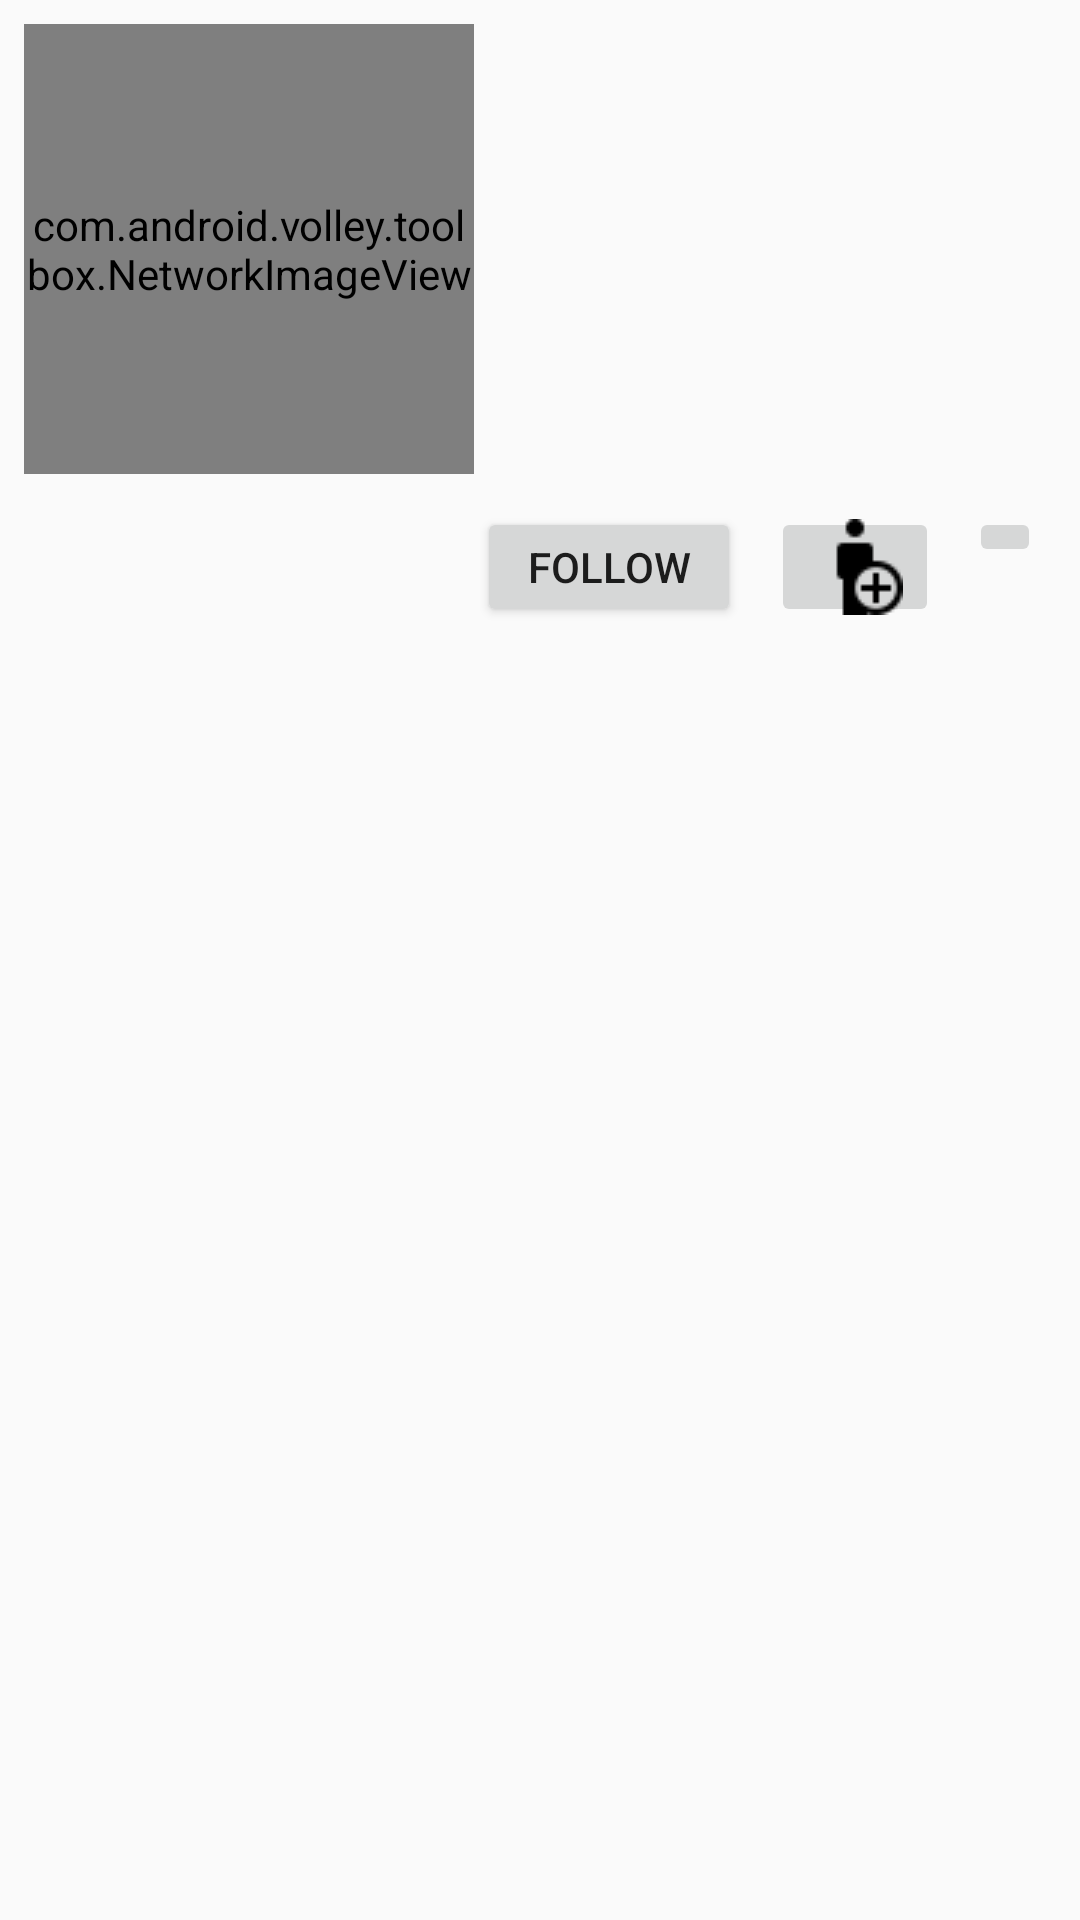

Screen size 1080x1920. Icon name, then its center in pixels as point (x, y):
addasfriend: point (855, 567)
